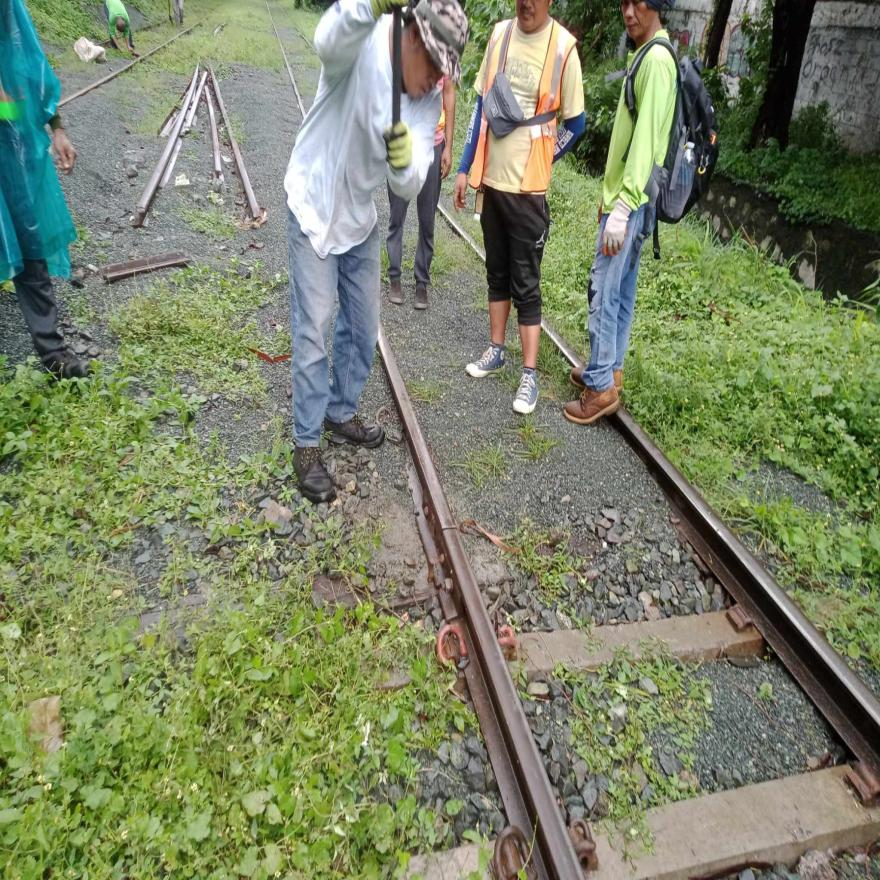railway-gap: (418, 488, 476, 564)
